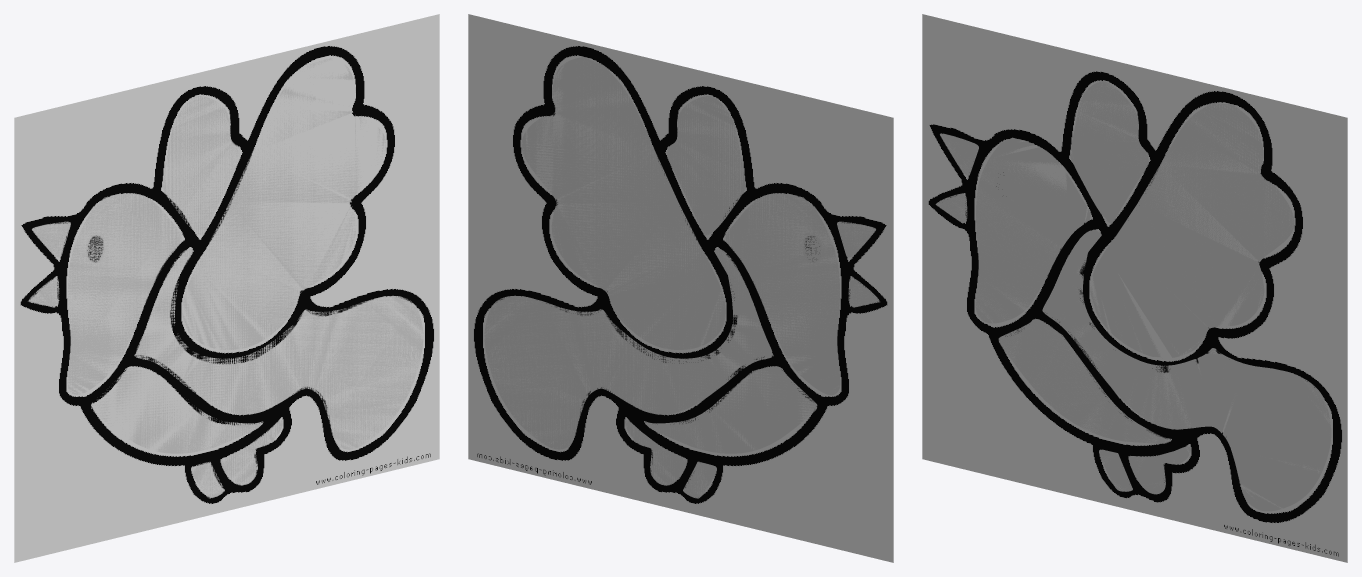
File: Bird.fbx
3 renders of one model, left to right at view 1: azimuth 30°, elevation 25°; view 2: azimuth 150°, elevation 25°; view 3: azimuth 330°, elevation 25°, orthographic.
Visible parts, largest first — view 1: Plane_1, Body_2, Wing_1, Head, Wing_2, Body_1, Leg_1, Mouth_1, Leg_2, Mouth_2; view 2: Plane_1, Wing_1, Body_2, Head, Body_1, Wing_2, Leg_1, Mouth_1, Leg_2, Mouth_2; view 3: Plane_1, Wing_1, Body_2, Head, Body_1, Wing_2, Leg_1, Mouth_1, Leg_2, Mouth_2.
Part boxes in pixels (x1=…): Plane_1: x1=14, y1=14, x2=439, y2=562; Body_2: x1=134, y1=248, x2=423, y2=449; Wing_1: x1=182, y1=58, x2=385, y2=349; Head: x1=67, y1=193, x2=181, y2=394; Wing_2: x1=162, y1=96, x2=240, y2=235; Body_1: x1=91, y1=366, x2=263, y2=453; Leg_1: x1=221, y1=420, x2=282, y2=485; Mouth_1: x1=32, y1=221, x2=70, y2=257; Leg_2: x1=191, y1=462, x2=224, y2=498; Mouth_2: x1=28, y1=277, x2=59, y2=307; Plane_1: x1=468, y1=14, x2=893, y2=562; Wing_1: x1=521, y1=57, x2=725, y2=349; Body_2: x1=484, y1=248, x2=773, y2=449; Head: x1=725, y1=193, x2=840, y2=395; Body_1: x1=644, y1=366, x2=817, y2=453; Wing_2: x1=667, y1=96, x2=745, y2=235; Leg_1: x1=625, y1=420, x2=687, y2=485; Mouth_1: x1=837, y1=221, x2=875, y2=257; Leg_2: x1=683, y1=461, x2=716, y2=498; Mouth_2: x1=848, y1=277, x2=879, y2=307; Plane_1: x1=922, y1=14, x2=1347, y2=562; Wing_1: x1=1090, y1=103, x2=1294, y2=358; Body_2: x1=1042, y1=229, x2=1331, y2=511; Head: x1=975, y1=137, x2=1090, y2=323; Body_1: x1=998, y1=319, x2=1171, y2=443; Wing_2: x1=1070, y1=81, x2=1148, y2=223; Leg_1: x1=1128, y1=446, x2=1190, y2=494; Mouth_1: x1=940, y1=133, x2=978, y2=175; Leg_2: x1=1099, y1=449, x2=1132, y2=491; Mouth_2: x1=935, y1=193, x2=967, y2=223.
Bounding box in the file's own units: 400 × 400 × 1.13e-13.
1 material, 1 textured.
